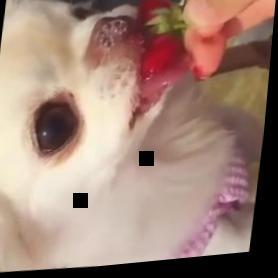nasal_discharge: (89, 16, 131, 53)
